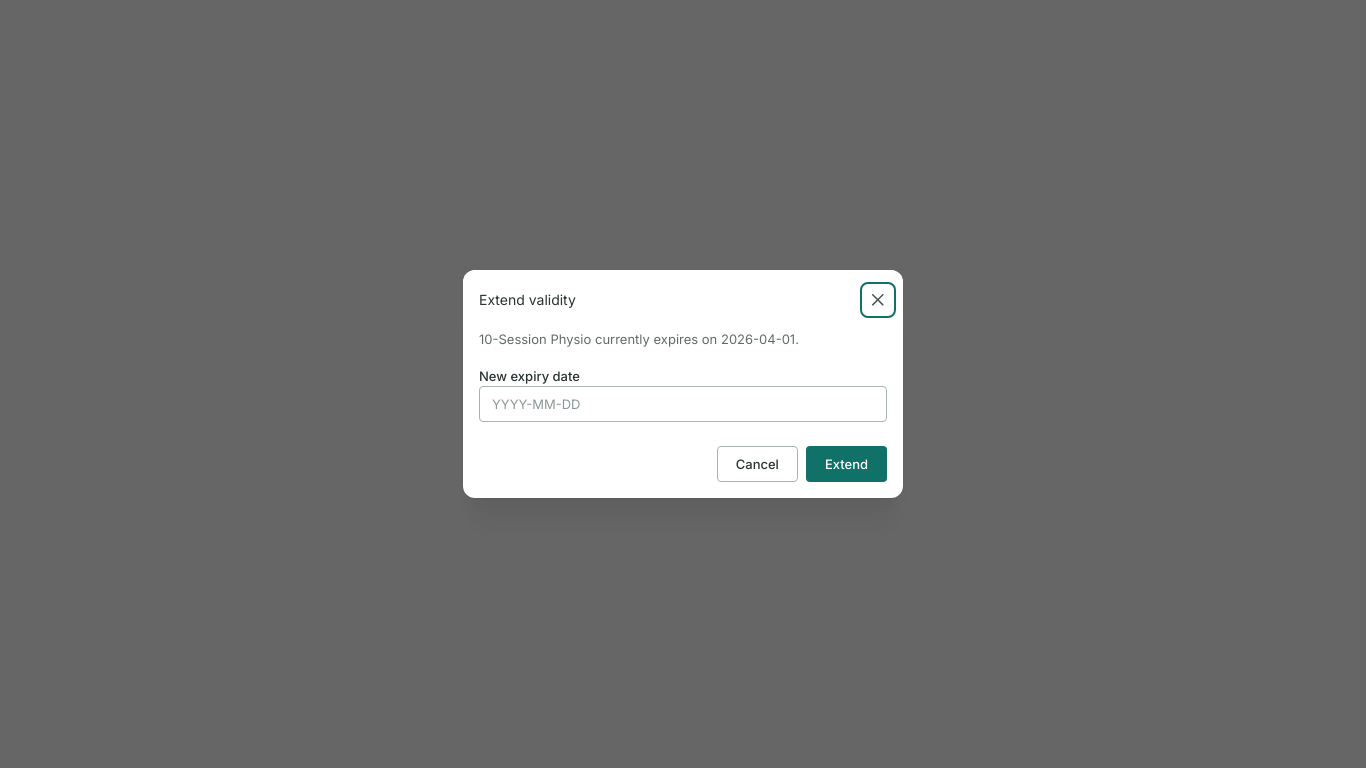
it: ExtendValidityDialog › shows the dedicated enforcement state and keeps input intact on SUBSCRIPTION_REQUIRED
Type "2026-06-01" into the field labelled "New expiry date" at (683, 404), box [479,386,887,422]
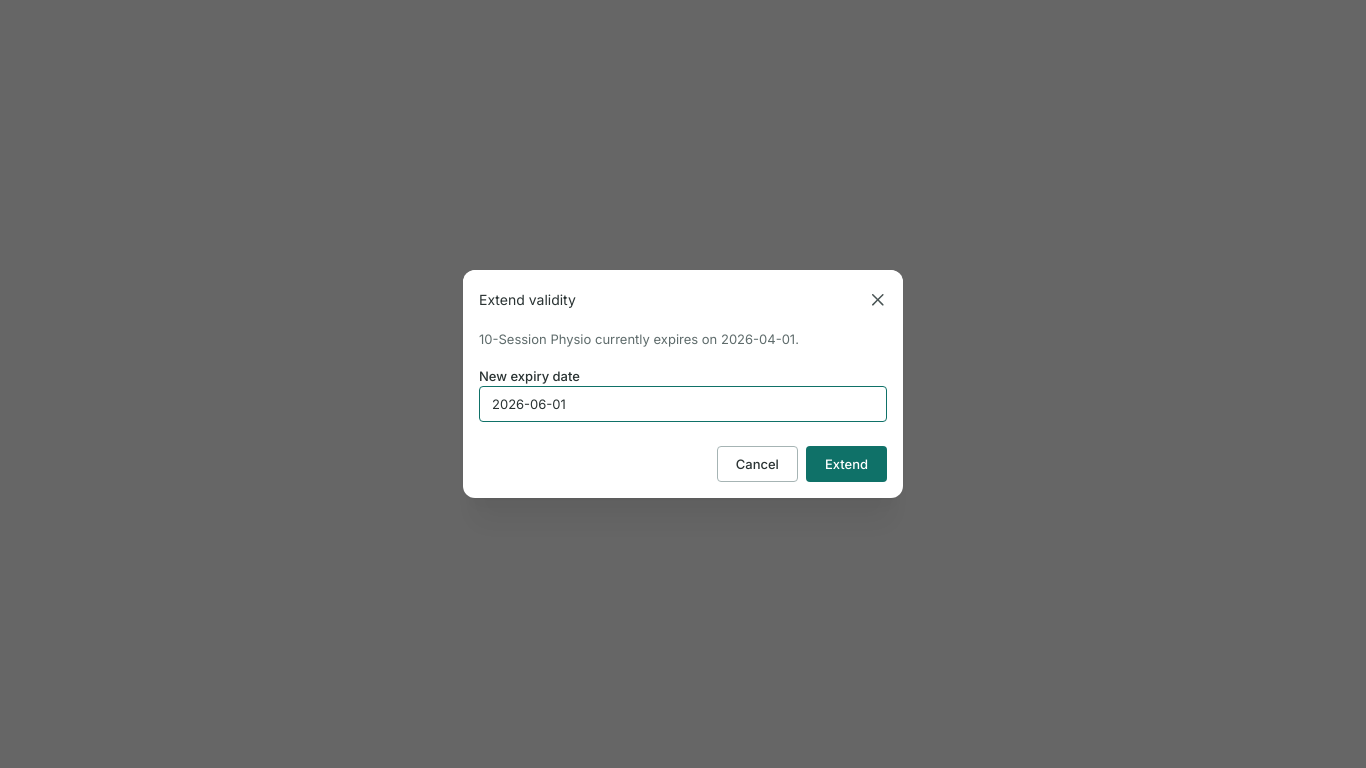
Click the button "Extend" at (846, 464), box [806,446,887,482]
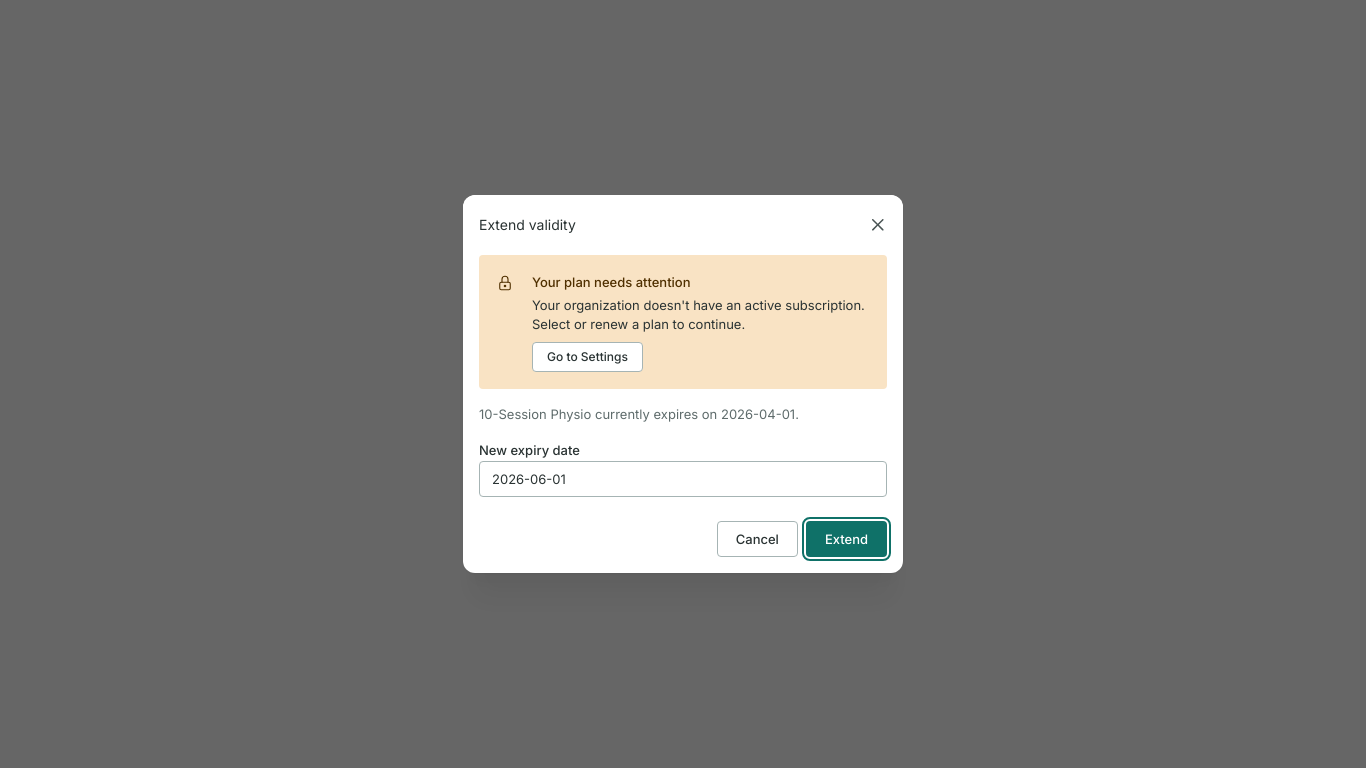
Check: the text "Your organization doesn't have an active subscription. Select or renew a plan to continue." is shown, box [532,297,865,332]
